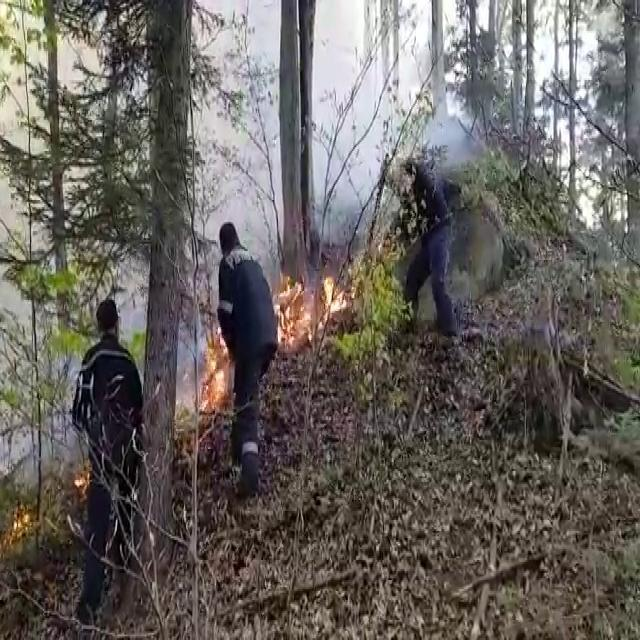Fire: (272, 257, 346, 354), (196, 320, 234, 435)
Smoke: (194, 0, 466, 235)
